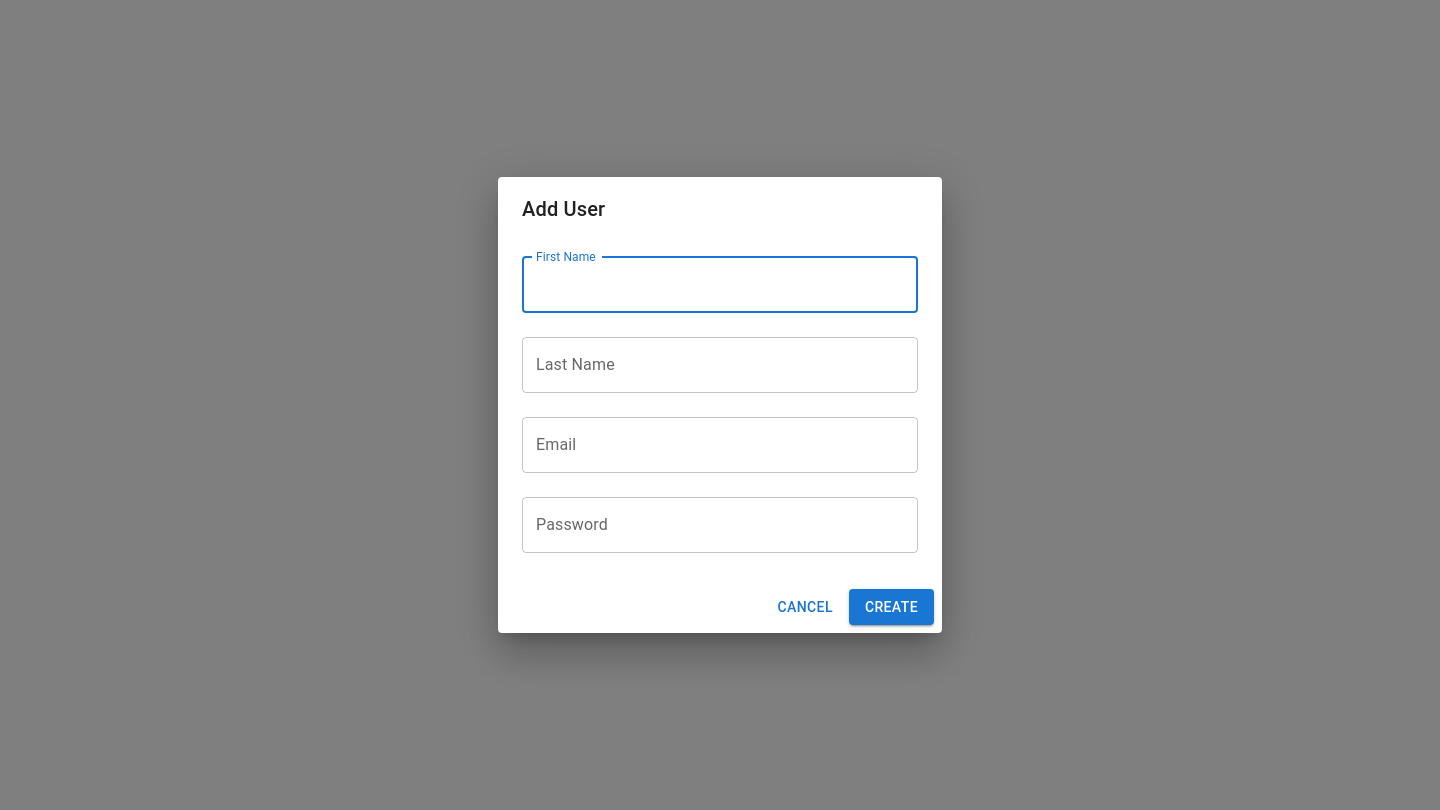
UserFormDialog error paths › shows backend error when registration fails
In the field labelled "First Name": (720, 285) [522,257,918,313], type "Bob"
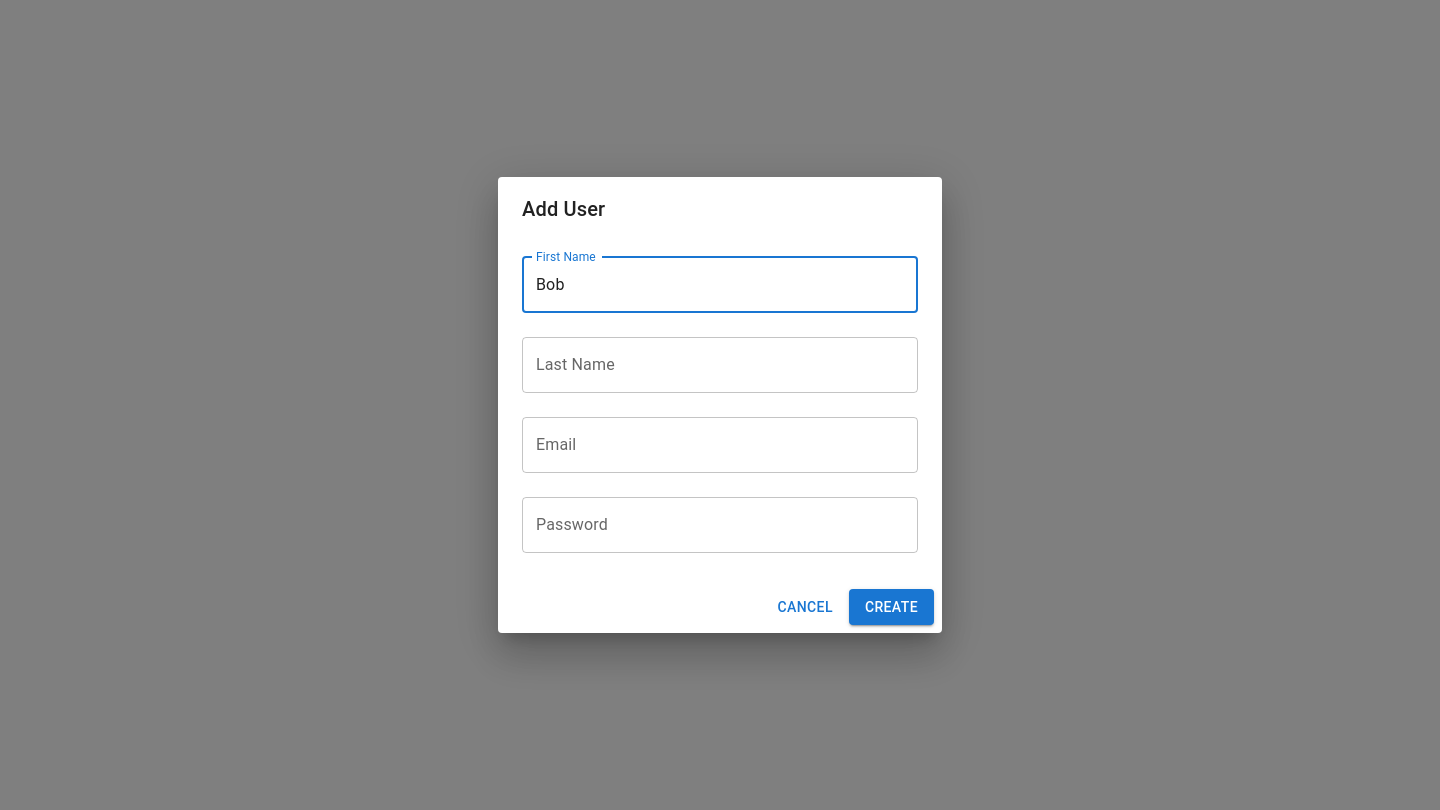
In the field labelled "Last Name": (720, 365) [522,337,918,393], type "Jones"
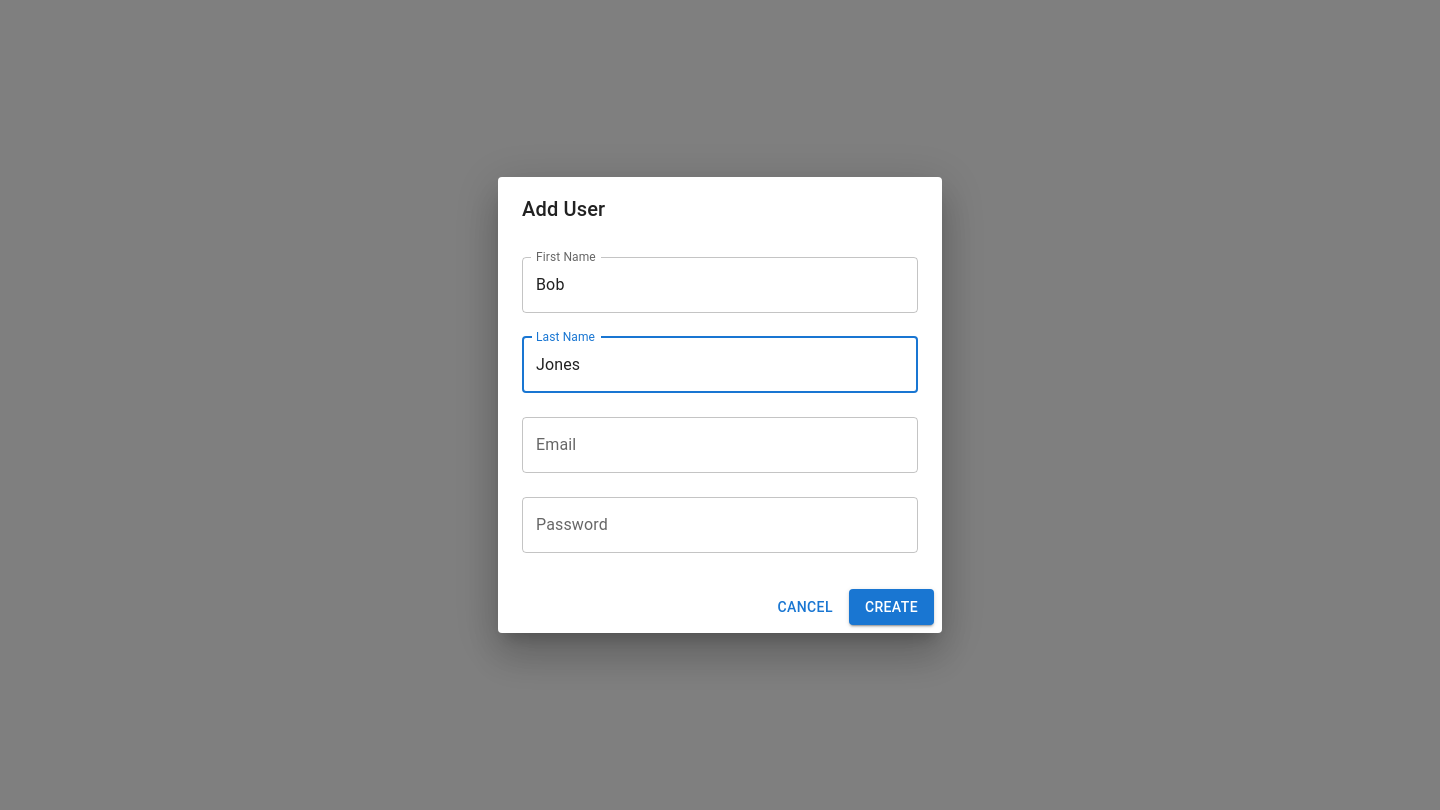
In the field labelled "Email": (720, 445) [522,417,918,473], type "taken@test.com"
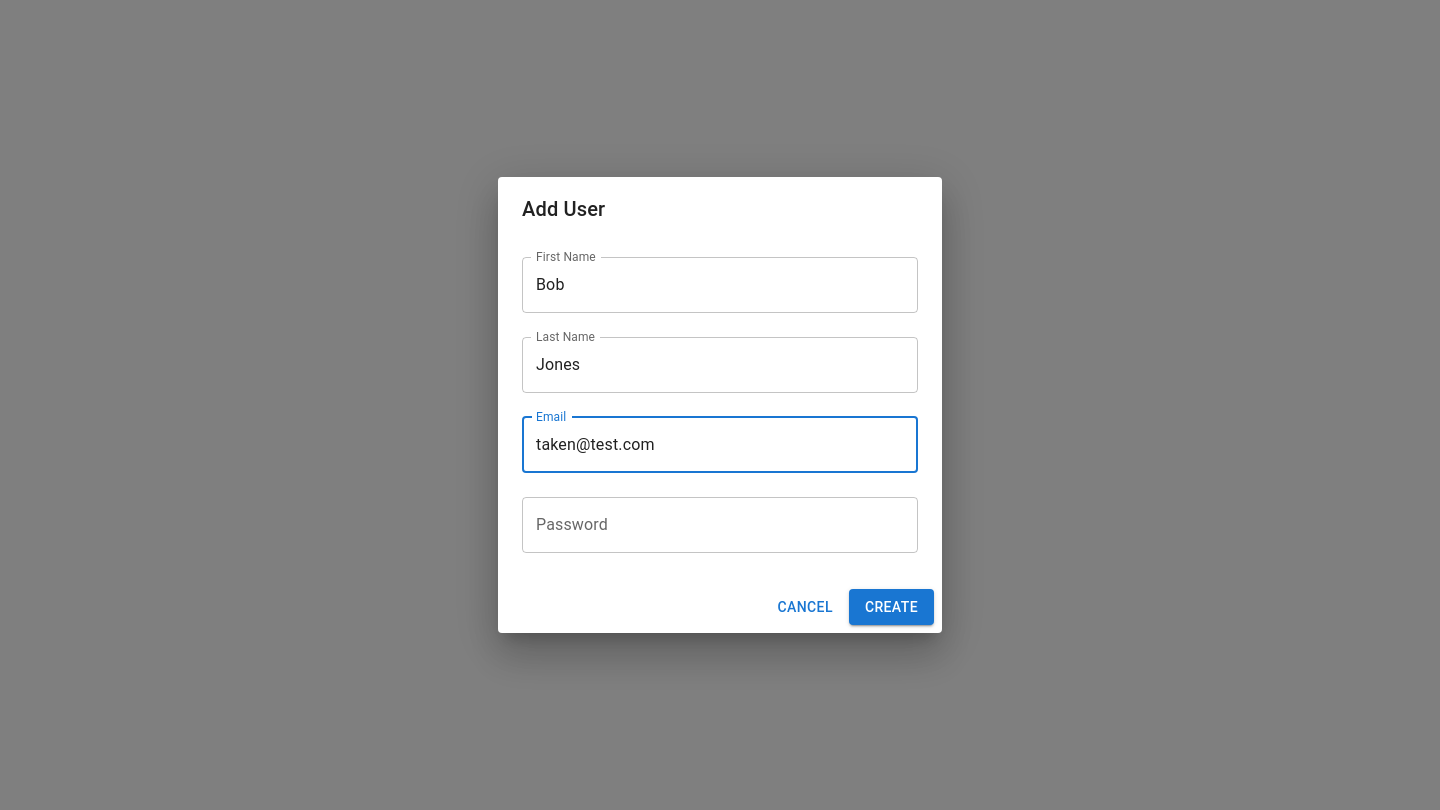
In the password field labelled "Password": (720, 525) [522,497,918,553], type "secret1"
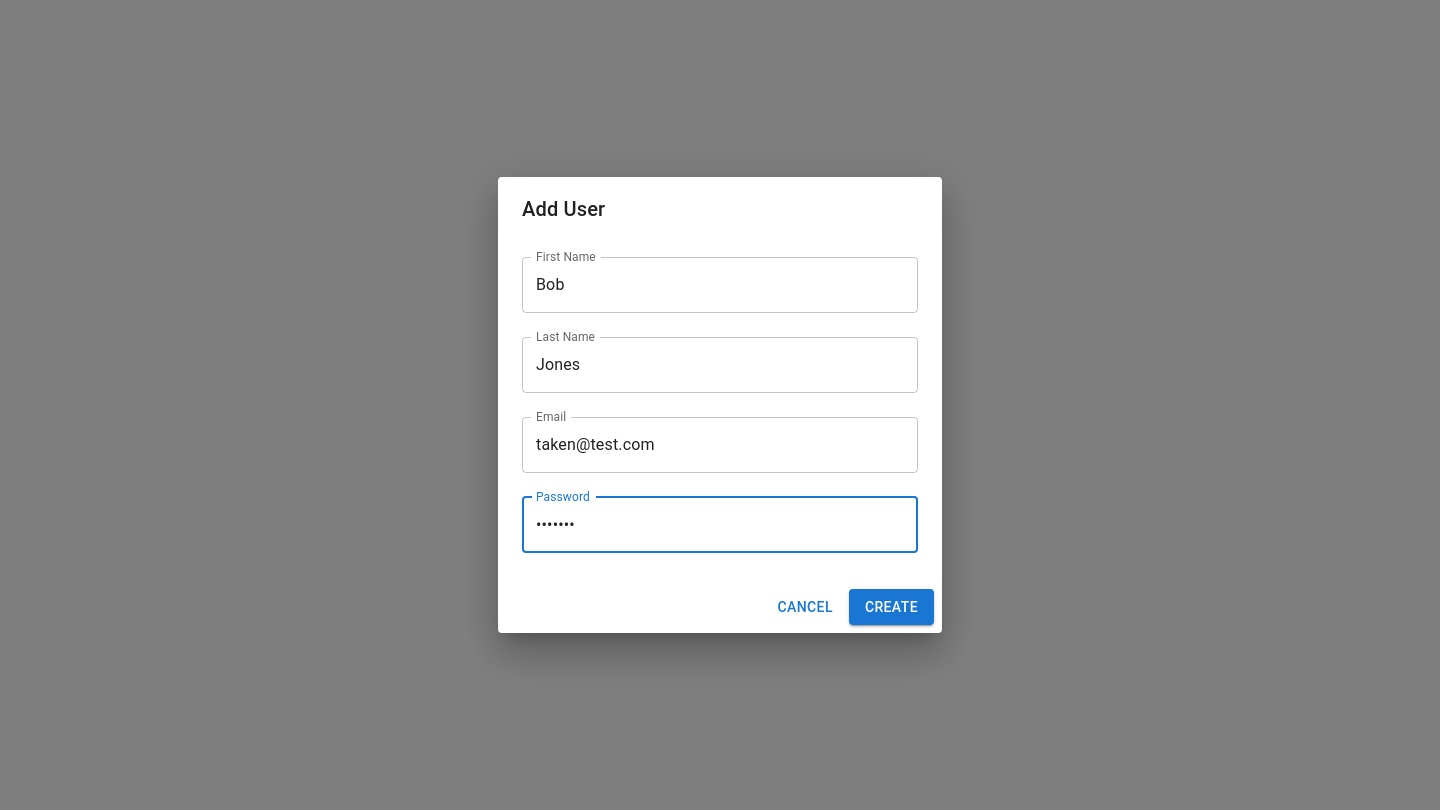
Click the button "Create": (891, 607) [849,589,934,625]
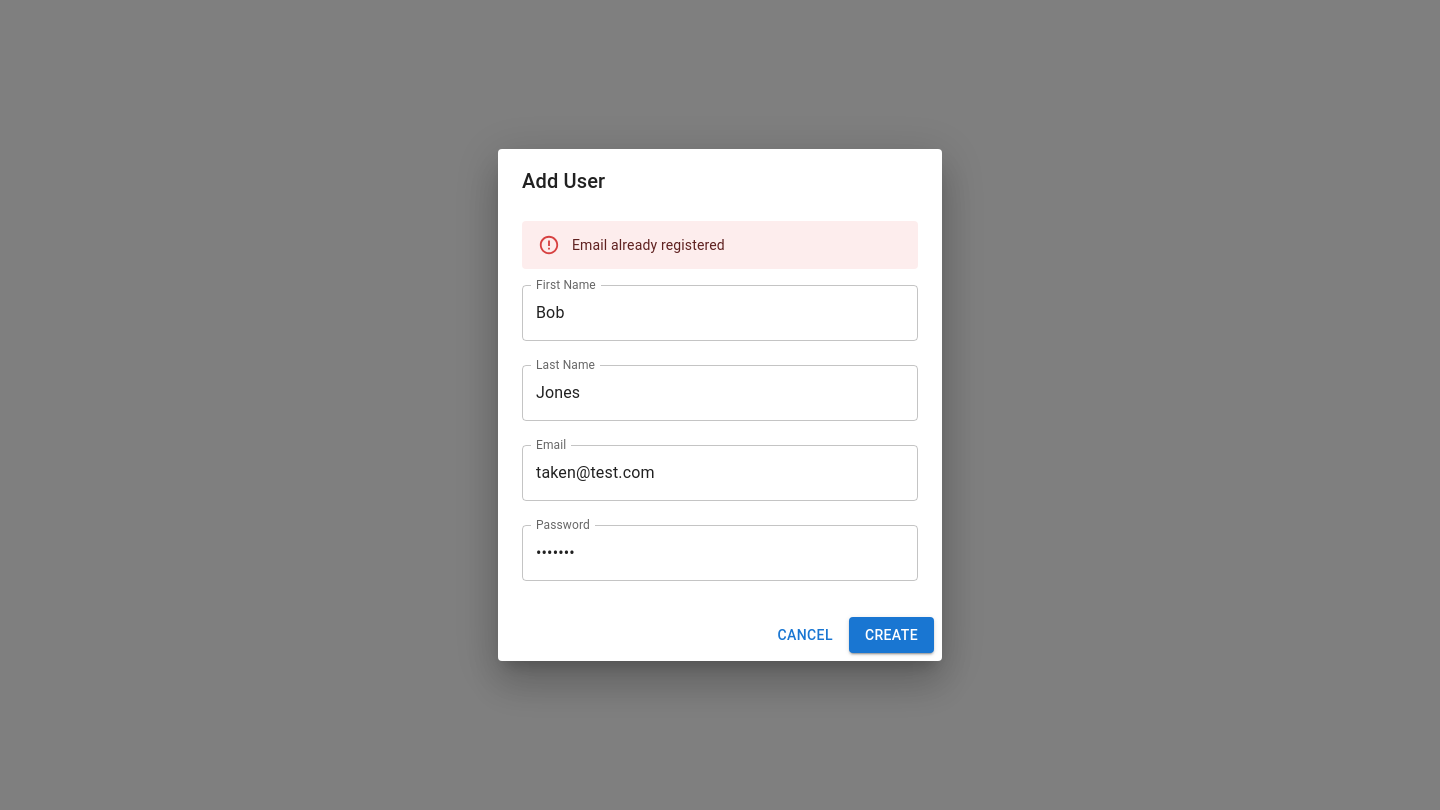
Expected: the message reads "Email already registered", [572,237,725,253]
